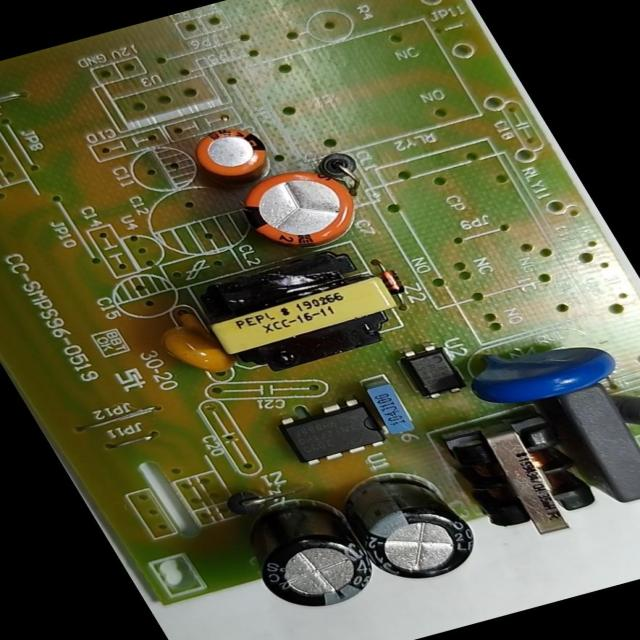Cap1: (215, 156, 382, 261)
Cap2: (179, 116, 284, 190)
Cap3: (333, 458, 493, 589)
Cap4: (205, 476, 398, 629)
MOSFET: (262, 390, 403, 474)
Mov: (445, 317, 637, 419)
Resistor: (606, 373, 639, 444)
Transformer: (165, 225, 434, 389), (428, 399, 616, 551)
